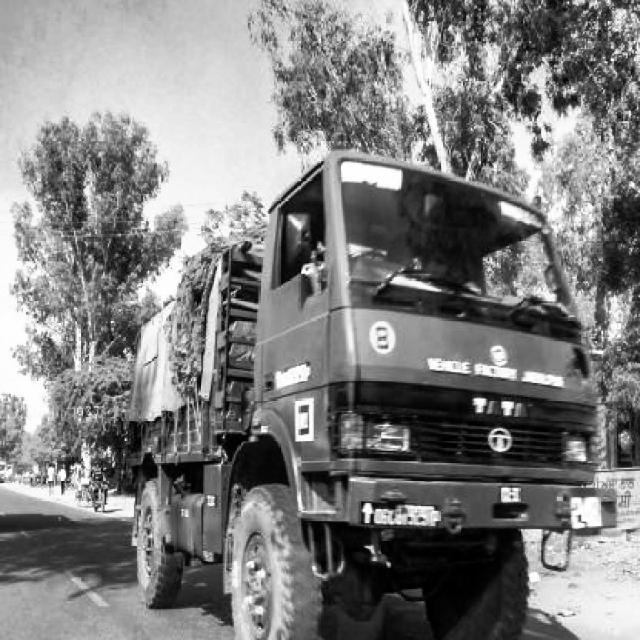HCV: (169, 162, 594, 622)
